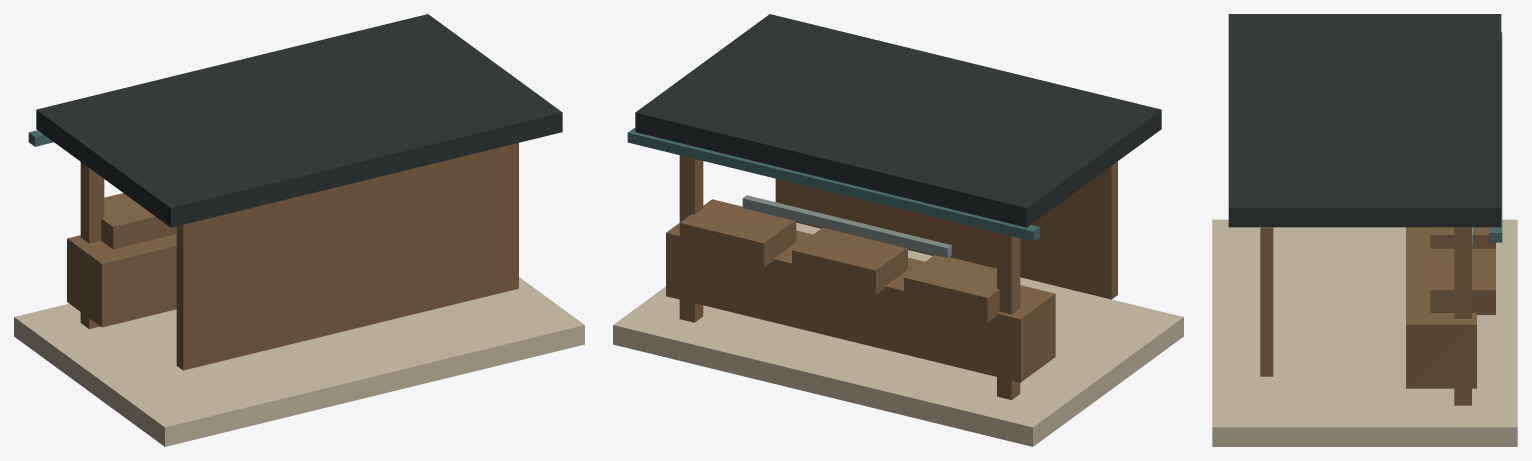
Rendered from Produce-Stall.glb.
The picture shows the model from 3 angles, left to right: view 1: azimuth 30°, elevation 25°; view 2: azimuth 150°, elevation 25°; view 3: azimuth 270°, elevation 25°; orthographic projection.
Visible parts, largest first — view 1: produce-stall-static-produce-stall-timber, produce-stall-static-produce-stall-iron, produce-stall-static-produce-stall-cream; view 2: produce-stall-static-produce-stall-iron, produce-stall-static-produce-stall-timber, produce-stall-static-produce-stall-cream, produce-stall-static-produce-stall-teal, produce-stall-static-produce-stall-galv; view 3: produce-stall-static-produce-stall-iron, produce-stall-static-produce-stall-cream, produce-stall-static-produce-stall-timber, produce-stall-static-produce-stall-teal.
Boxes of the visible parts, left/top/right/bottom form: produce-stall-static-produce-stall-timber: left=67, top=143, right=518, bottom=370; produce-stall-static-produce-stall-iron: left=36, top=14, right=562, bottom=227; produce-stall-static-produce-stall-cream: left=14, top=277, right=584, bottom=446; produce-stall-static-produce-stall-iron: left=635, top=14, right=1161, bottom=227; produce-stall-static-produce-stall-timber: left=666, top=155, right=1117, bottom=399; produce-stall-static-produce-stall-cream: left=613, top=222, right=1183, bottom=446; produce-stall-static-produce-stall-teal: left=627, top=128, right=1039, bottom=241; produce-stall-static-produce-stall-galv: left=742, top=195, right=951, bottom=257; produce-stall-static-produce-stall-iron: left=1228, top=14, right=1501, bottom=227; produce-stall-static-produce-stall-cream: left=1212, top=219, right=1517, bottom=446; produce-stall-static-produce-stall-timber: left=1260, top=227, right=1495, bottom=405; produce-stall-static-produce-stall-teal: left=1489, top=32, right=1502, bottom=242.
Bounding box in the file's own units: 4.5 × 2.35 × 2.8.
